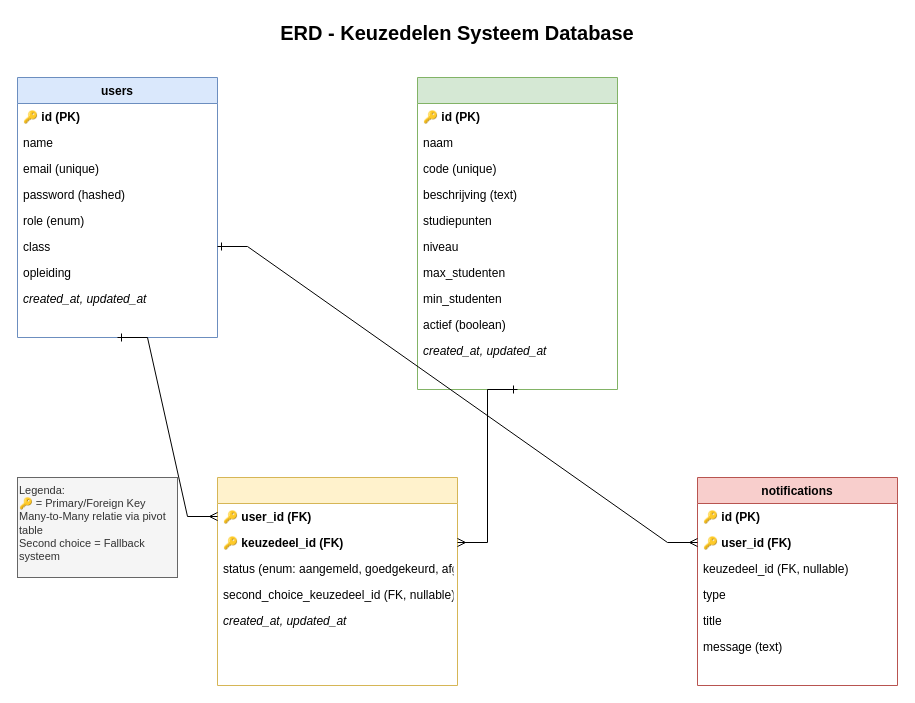
Image size: 915x703. Some labels were removed from this diagram. Each missing label, with the box of its shape:
keuzedeel_user (pivot): (216, 476, 458, 686)
keuzedelen: (416, 76, 618, 390)
